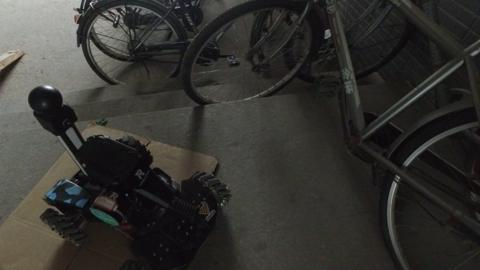chariot: (27, 83, 229, 268)
